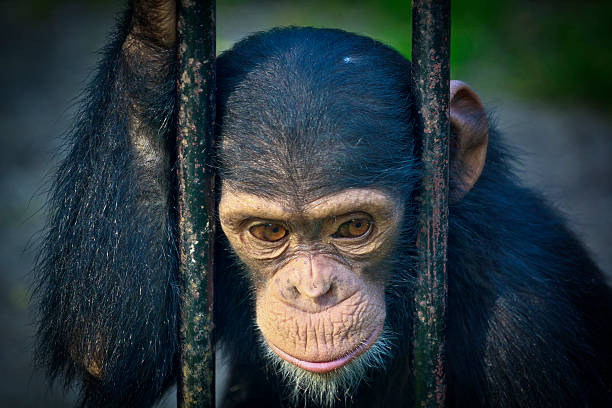chimpanzee: (167, 27, 489, 397)
